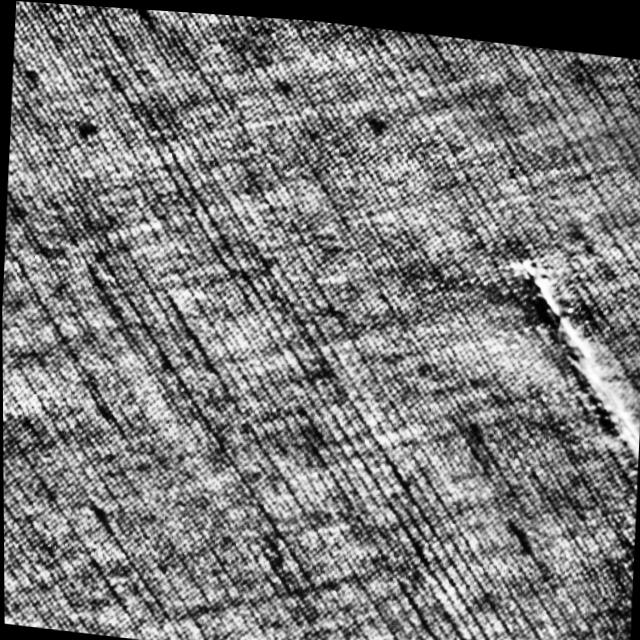Hole: (500, 243, 640, 486)
